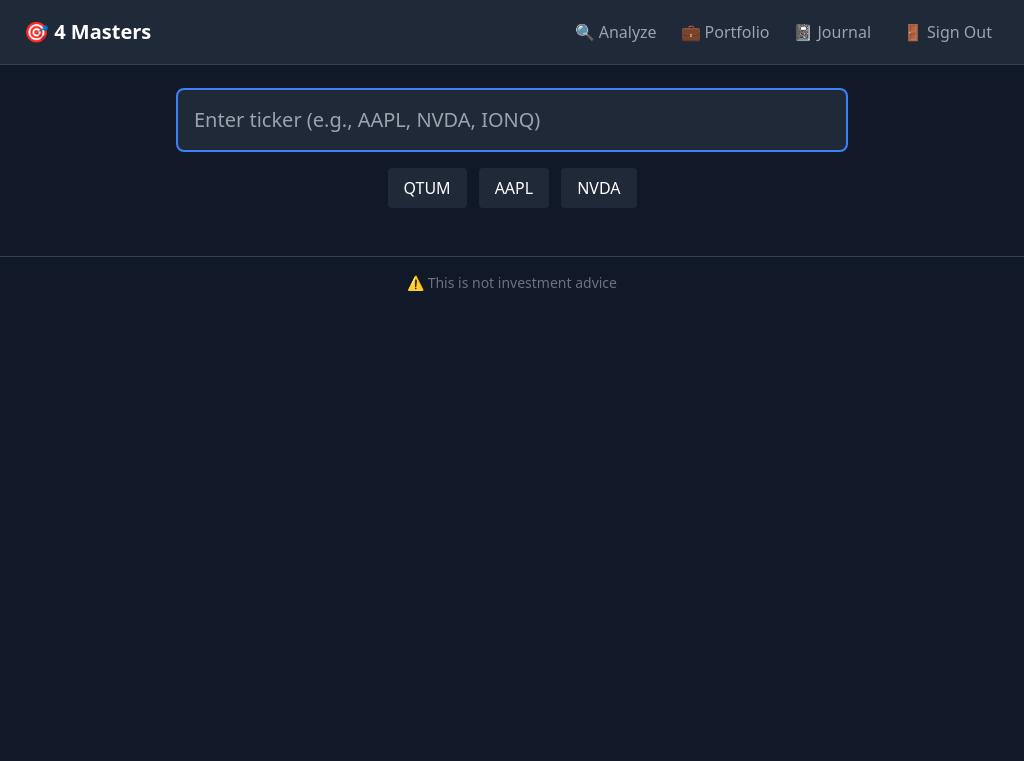
Scenario: App integration - state transitions › example button flow: click QTUM → results appear
The width and height of the screenshot is (1024, 761).
Click the button "QTUM" at (427, 188), box left=388, top=168, right=467, bottom=208
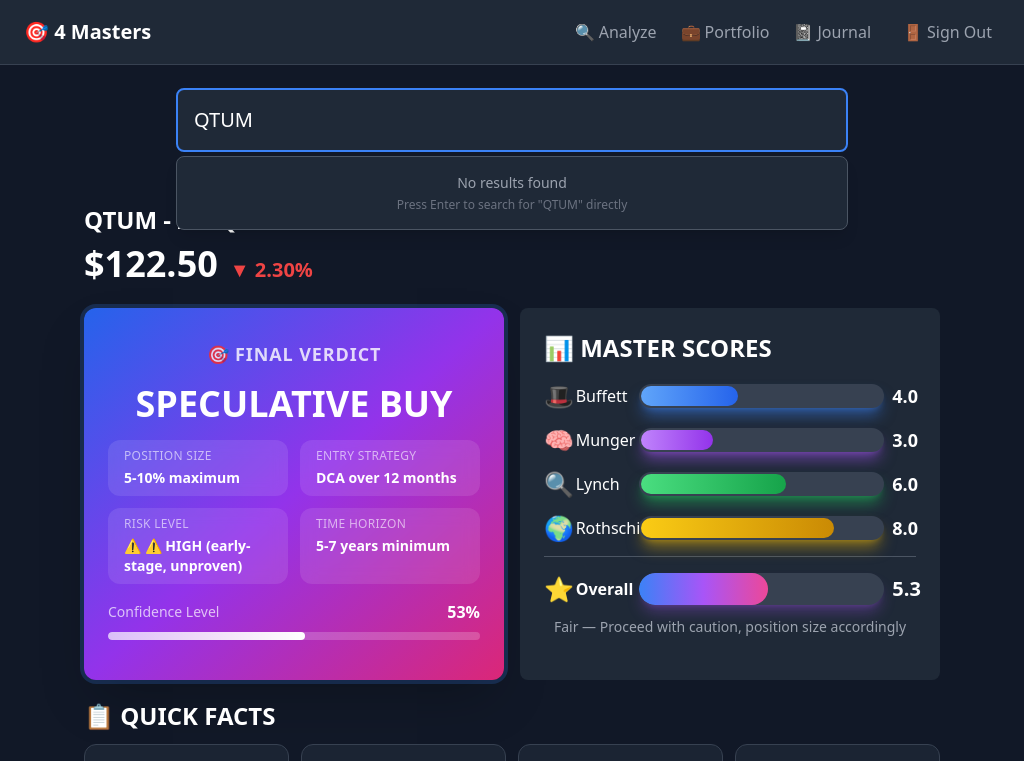
expect the heading "QTUM - IonQ Inc." is shown: met, box left=84, top=203, right=287, bottom=236
